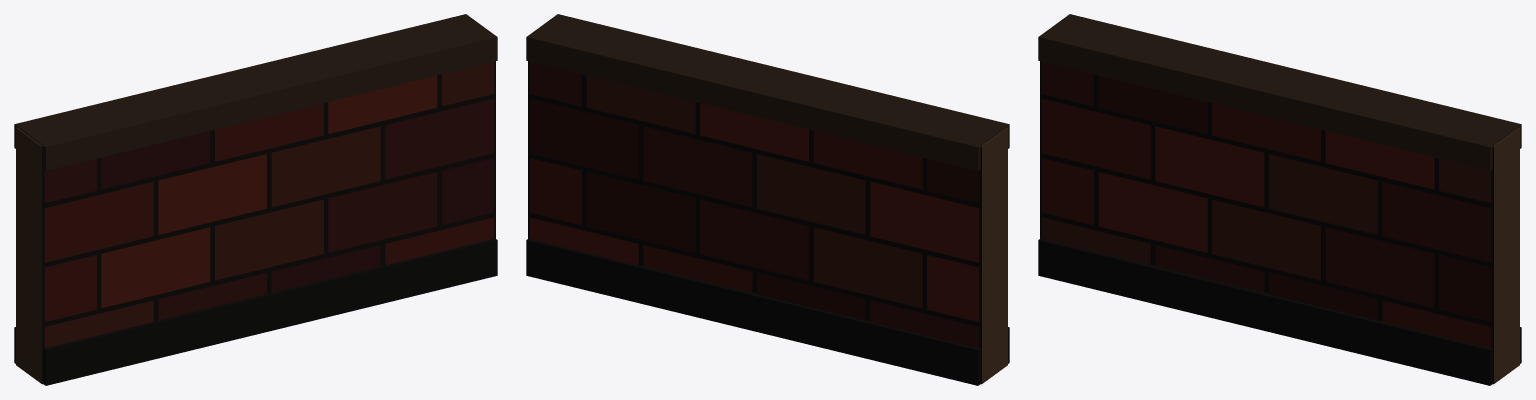
Rendered from SM_Wall_Half_2x1_Hideout.glb.
3 renders of one model, left to right at view 1: azimuth 30°, elevation 25°; view 2: azimuth 150°, elevation 25°; view 3: azimuth 330°, elevation 25°, orthographic.
Parts seen in each view (by area): view 1: SM_Wall_Half_2x1_Hideout-col; view 2: SM_Wall_Half_2x1_Hideout-col; view 3: SM_Wall_Half_2x1_Hideout-col.
Part boxes in pixels (x1,y1,x2,y2): SM_Wall_Half_2x1_Hideout-col: (14, 14, 497, 385); SM_Wall_Half_2x1_Hideout-col: (526, 14, 1009, 385); SM_Wall_Half_2x1_Hideout-col: (1038, 14, 1521, 385).
Size of the model in its own units: 2 by 1 by 0.24.
